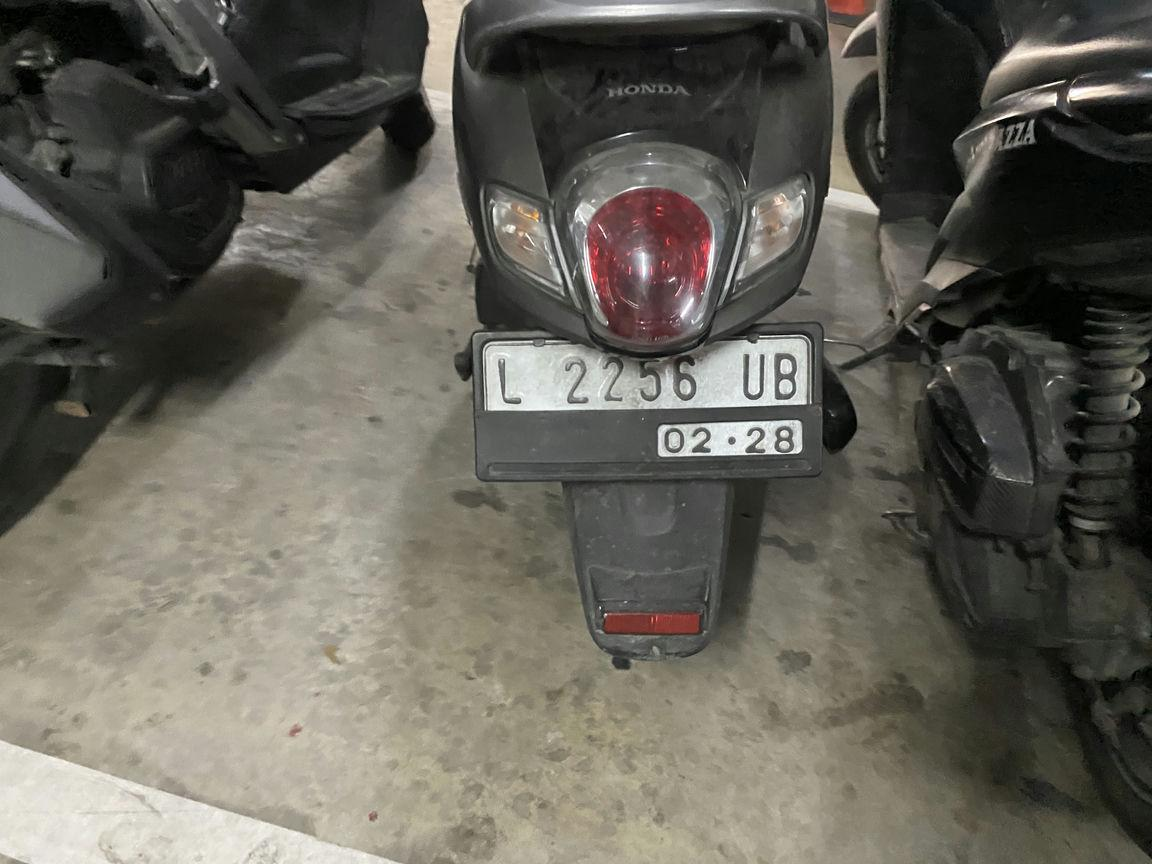plat: (472, 322, 821, 484)
